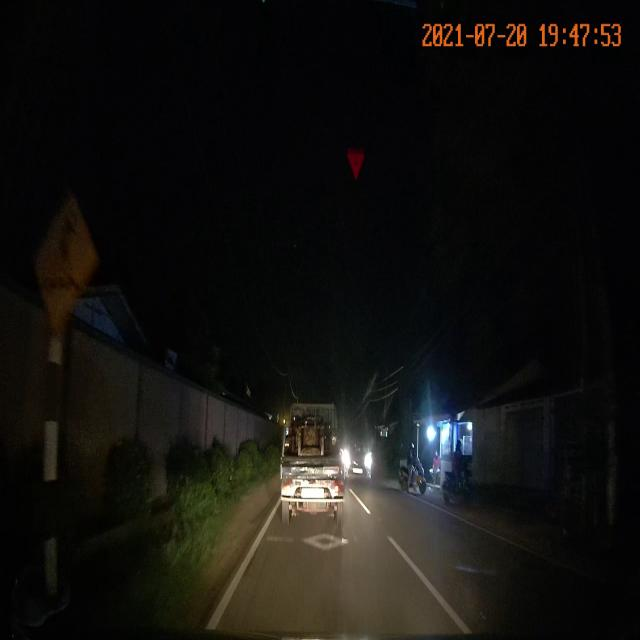Romb: (302, 531, 349, 552)
